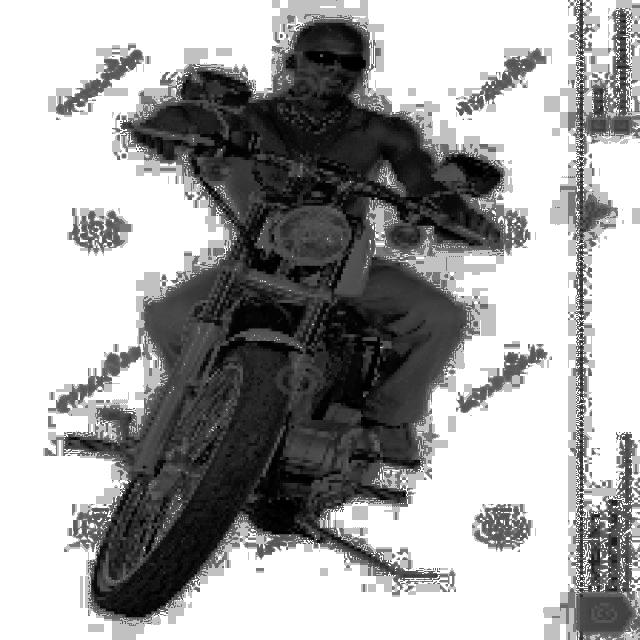Bike: (32, 121, 406, 640)
